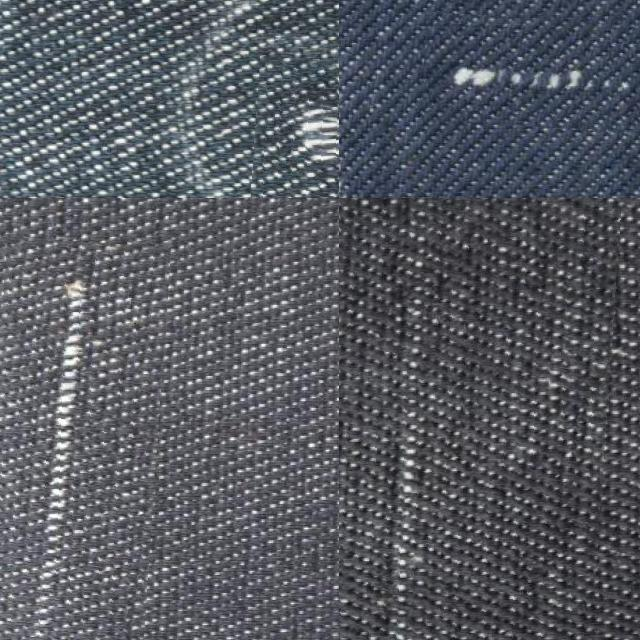stains: (339, 198, 611, 640), (0, 237, 164, 640), (421, 18, 640, 140), (252, 58, 339, 198)
